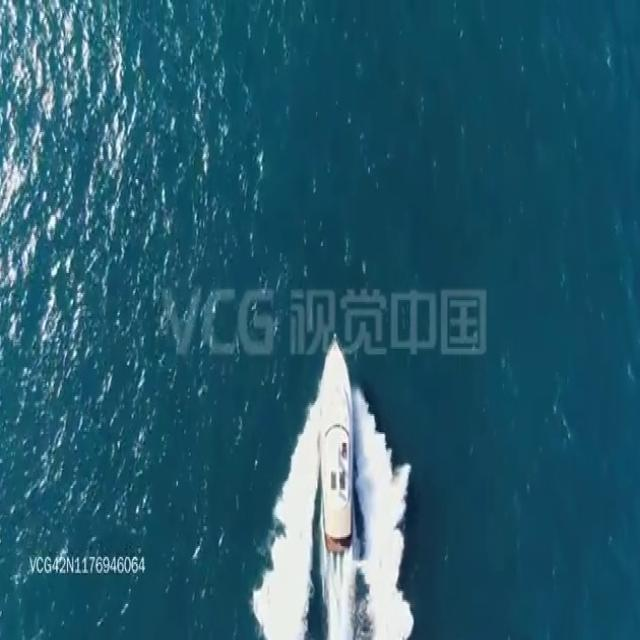houseboat: (311, 326, 360, 547)
